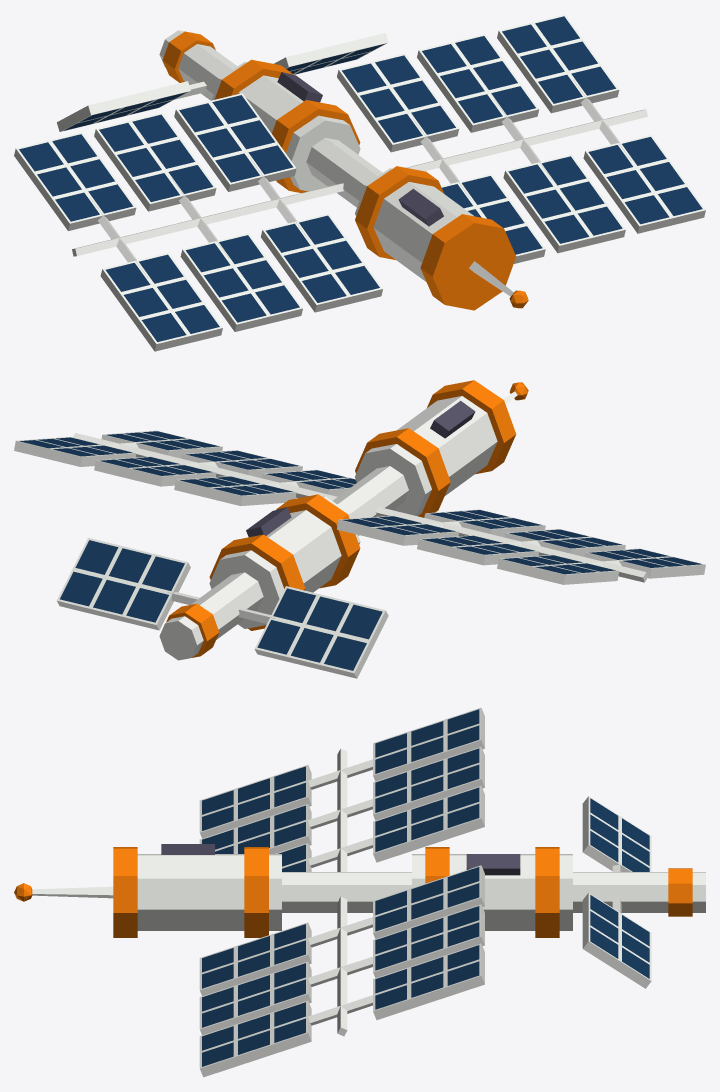
The model's file is satelliteC.FBX.
3 renders of one model, top to bottom at view 1: azimuth 30°, elevation 25°; view 2: azimuth 150°, elevation 25°; view 3: azimuth 270°, elevation 25°, orthographic.
Visible parts, largest first — view 1: satelliteC; view 2: satelliteC; view 3: satelliteC.
Part boxes in pixels (x1,y1,x2,y2): satelliteC: [14, 14, 705, 351]; satelliteC: [14, 380, 705, 678]; satelliteC: [14, 707, 705, 1077].
Size of the model in its own units: 43.96 by 7.47 by 46.1.
